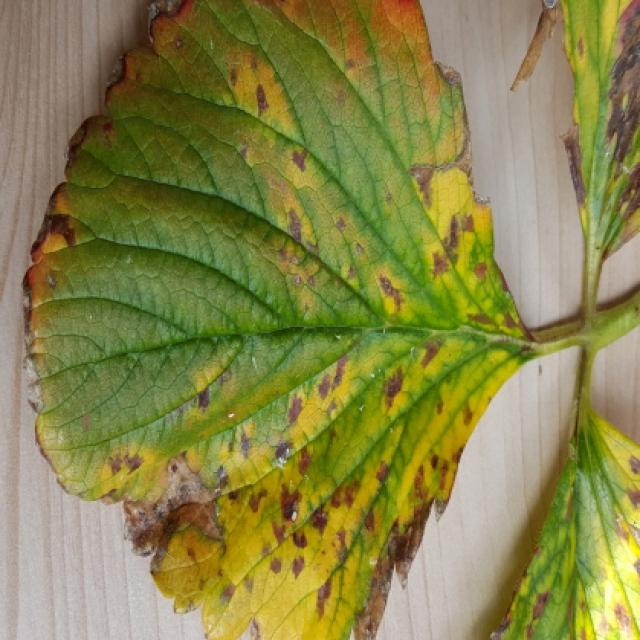Angular Leafspot: (20, 0, 543, 638), (486, 408, 640, 638), (509, 0, 640, 261)
